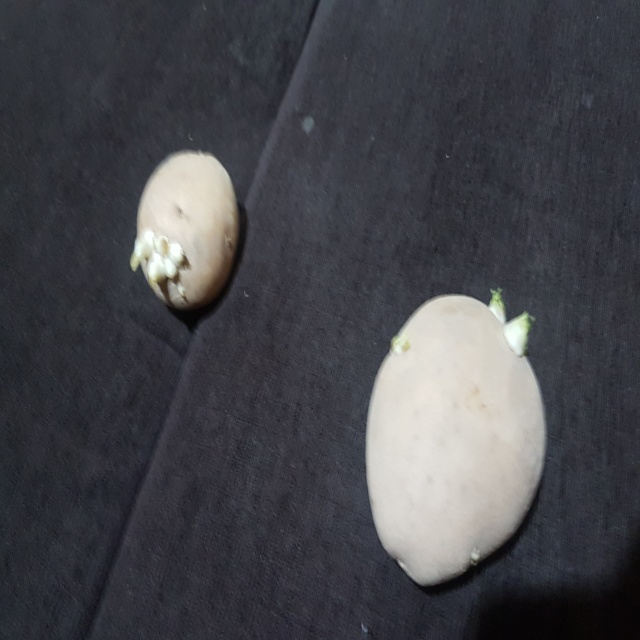potato: (352, 283, 563, 594), (123, 142, 261, 318)
